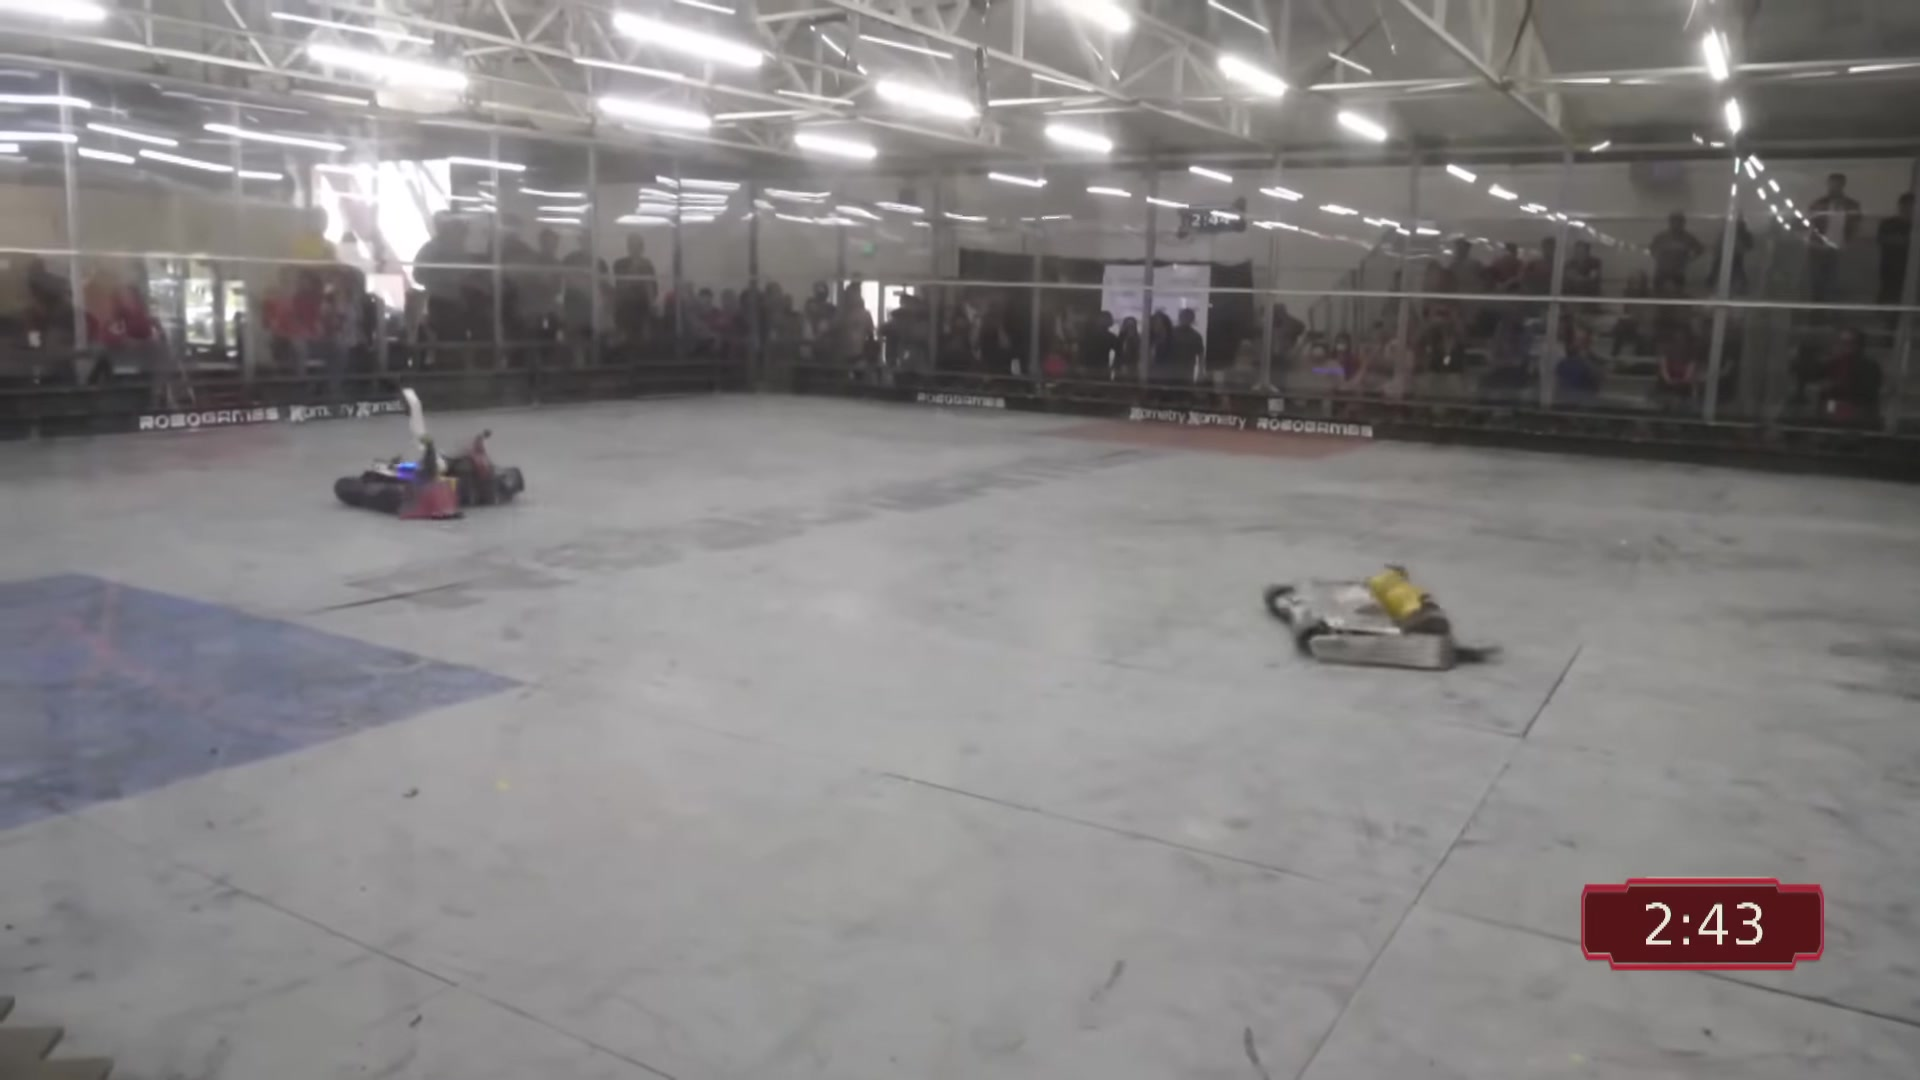combatbot: (332, 388, 526, 526), (1266, 558, 1501, 670)
